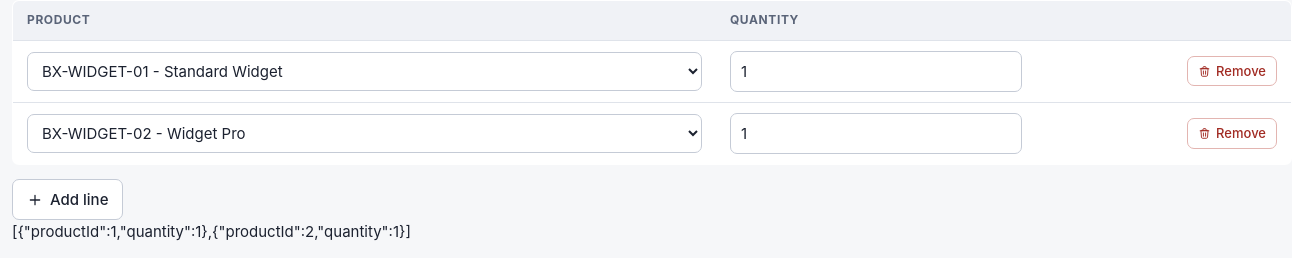
Test case: OrderLineEditor › edits a row without disturbing the others
Select "BX-WIDGET-02 - Widget Pro" in the dropdown named "Product for line 1". click: (364, 71)
box: [27,52,702,91]
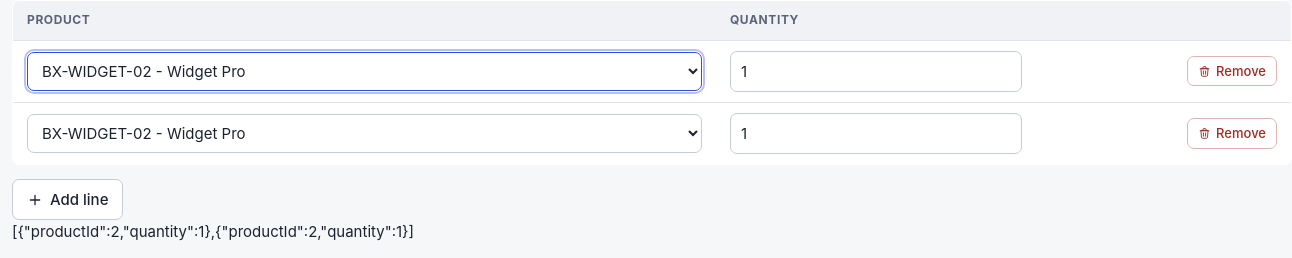
Replace the text in the number field named "Quantity for line 2" with "12". click: (876, 133)
box: [730,113,1022,154]
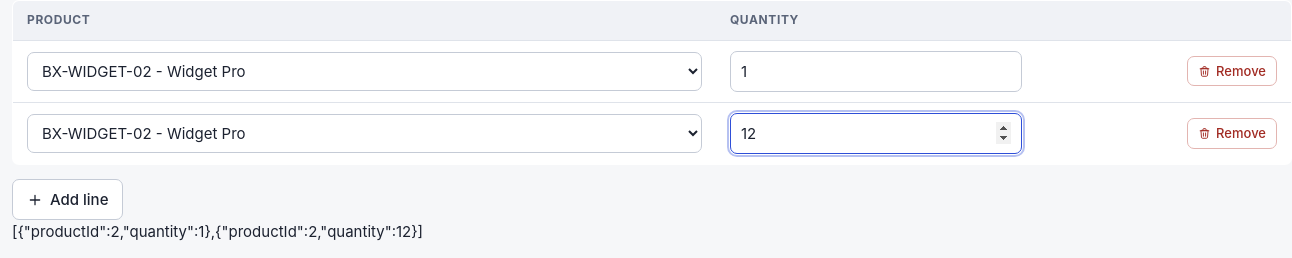
Expected: the text with test id "payload" reads "[{\"productId\":2,\"quantity\":1},{\"productId\":2,\"quantity\":12}]", [12,222,423,241]
